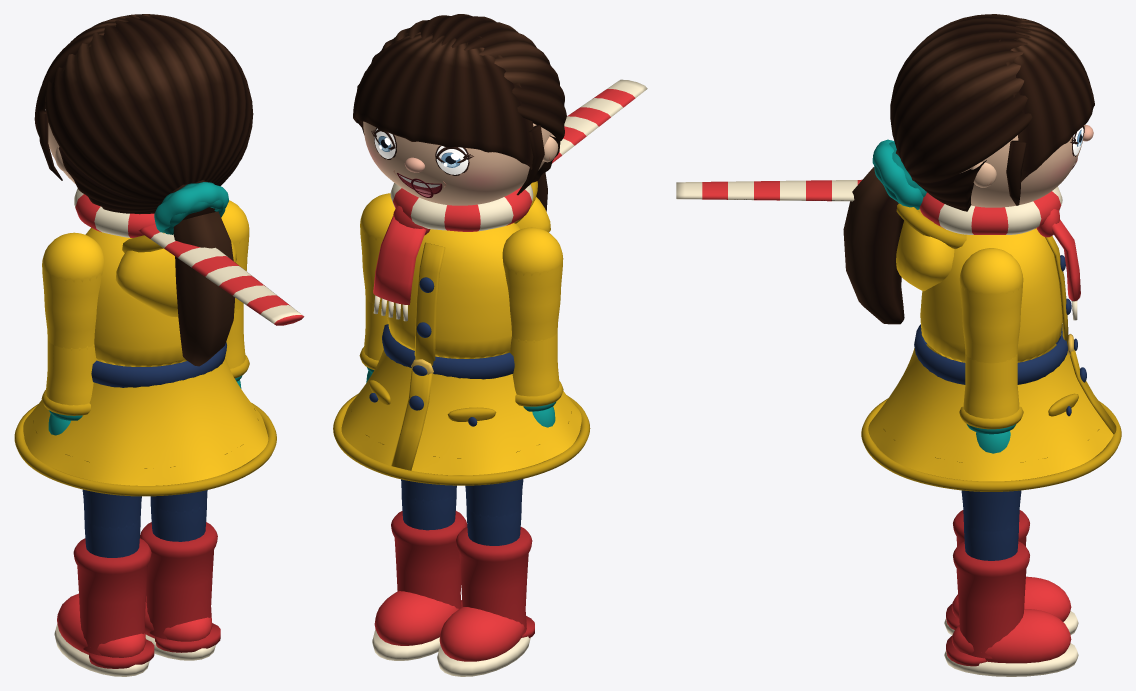
Rendered from robyn.glb.
The picture shows the model from 3 angles, left to right: view 1: azimuth 30°, elevation 25°; view 2: azimuth 150°, elevation 25°; view 3: azimuth 270°, elevation 25°; orthographic projection. The views are drawn at different scales.
Parts seen in each view (by area): view 1: HairCap, CoatSkirt, Coat, Welly.L, Ponytail, Welly.R, ScarfTail, Hem, Sleeve.L, Hood, Forearm.L, Belt (+21 smaller); view 2: CoatSkirt, Fringe, Coat, HairCap, Head, Welly.L, Welly.R, ScarfRing, Hem, Sleeve.L, Foot.L, Foot.R (+20 smaller); view 3: HairCap, CoatSkirt, Coat, Fringe, Ponytail, Welly.R, Sleeve.R, ScarfRing, Hem, ScarfTail, Foot.R, Head (+15 smaller).
Boxes of the visible parts, x1=… form: HairCap: x1=45, y1=15, x2=253, y2=214; CoatSkirt: x1=23, y1=357, x2=268, y2=485; Coat: x1=85, y1=227, x2=186, y2=366; Welly.L: x1=73, y1=538, x2=151, y2=656; Ponytail: x1=173, y1=211, x2=234, y2=366; Welly.R: x1=140, y1=522, x2=217, y2=639; ScarfTail: x1=138, y1=224, x2=304, y2=325; Hem: x1=14, y1=402, x2=276, y2=496; Sleeve.L: x1=42, y1=266, x2=101, y2=348; Hood: x1=115, y1=239, x2=236, y2=317; Forearm.L: x1=46, y1=338, x2=98, y2=405; Belt: x1=91, y1=342, x2=226, y2=387; CoatSkirt: x1=341, y1=349, x2=581, y2=475; Fringe: x1=353, y1=25, x2=533, y2=169; Coat: x1=386, y1=223, x2=520, y2=358; HairCap: x1=363, y1=14, x2=566, y2=182; Head: x1=363, y1=121, x2=553, y2=205; Welly.L: x1=456, y1=527, x2=532, y2=635; Welly.R: x1=391, y1=511, x2=467, y2=609; ScarfRing: x1=390, y1=183, x2=533, y2=231; Hem: x1=333, y1=393, x2=590, y2=485; Sleeve.L: x1=504, y1=261, x2=562, y2=341; Foot.L: x1=439, y1=607, x2=526, y2=661; Foot.R: x1=374, y1=591, x2=461, y2=645; HairCap: x1=890, y1=14, x2=1032, y2=211; CoatSkirt: x1=868, y1=333, x2=1113, y2=481; Coat: x1=920, y1=228, x2=1062, y2=362; Fringe: x1=999, y1=18, x2=1094, y2=182; Ponytail: x1=843, y1=167, x2=904, y2=324; Welly.R: x1=953, y1=541, x2=1029, y2=658; Sleeve.R: x1=960, y1=282, x2=1022, y2=363; ScarfRing: x1=919, y1=186, x2=1062, y2=234; Hem: x1=861, y1=398, x2=1121, y2=491; ScarfTail: x1=676, y1=179, x2=861, y2=201; Foot.R: x1=951, y1=609, x2=1071, y2=663; Head: x1=960, y1=125, x2=1085, y2=207.
Bounding box in the file's own units: 0.6527 × 1.71 × 1.12.
